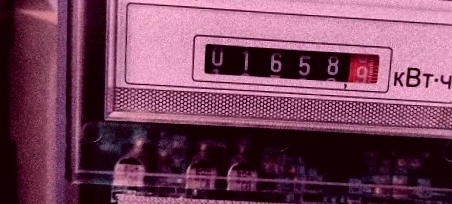0: (210, 44, 224, 67)
1: (240, 48, 251, 71)
5: (297, 52, 312, 76)
6: (268, 50, 283, 72)
8: (325, 52, 340, 75)
9: (352, 63, 367, 84)
screen: (185, 28, 400, 98)
